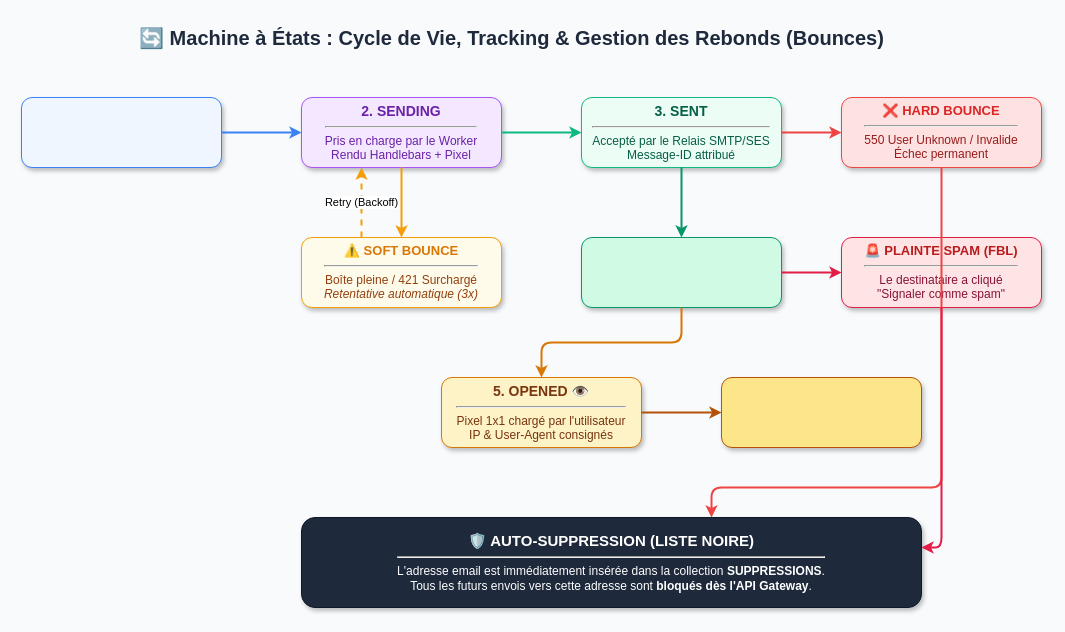
Image size: 1065x632. Some labels were removed from this diagram. Each missing label, with the centre of its shape:
"1. QUEUED Reçu par l'API Validé & Déposé dans Redis" goes at pixel 122 133.
"4. DELIVERED Remis au serveur distant (Gmail, Outlook, etc.)" goes at pixel 682 273.
"6. CLICKED 🔗 Lien réécrit cliqué Redirection 302 instantanée" goes at pixel 822 413.
